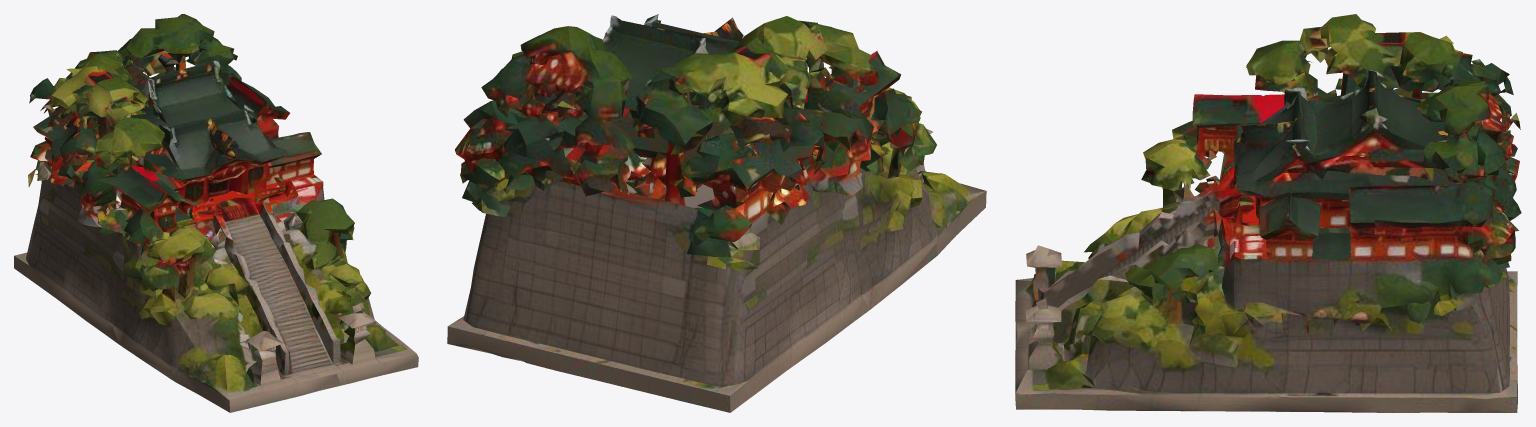
Rendered from shiogama-jinja.glb.
3 renders of one model, left to right at view 1: azimuth 30°, elevation 25°; view 2: azimuth 150°, elevation 25°; view 3: azimuth 270°, elevation 25°, orthographic. The views are drawn at different scales.
Parts seen in each view (by area): view 1: logan-textured.obj; view 2: logan-textured.obj; view 3: logan-textured.obj.
Part boxes in pixels (x1,y1,x2,y2): logan-textured.obj: [14, 14, 418, 412]; logan-textured.obj: [447, 14, 986, 412]; logan-textured.obj: [1015, 14, 1521, 412].
Size of the model in its own units: 0.6587 by 0.6268 by 1.
1 material, 1 textured.
